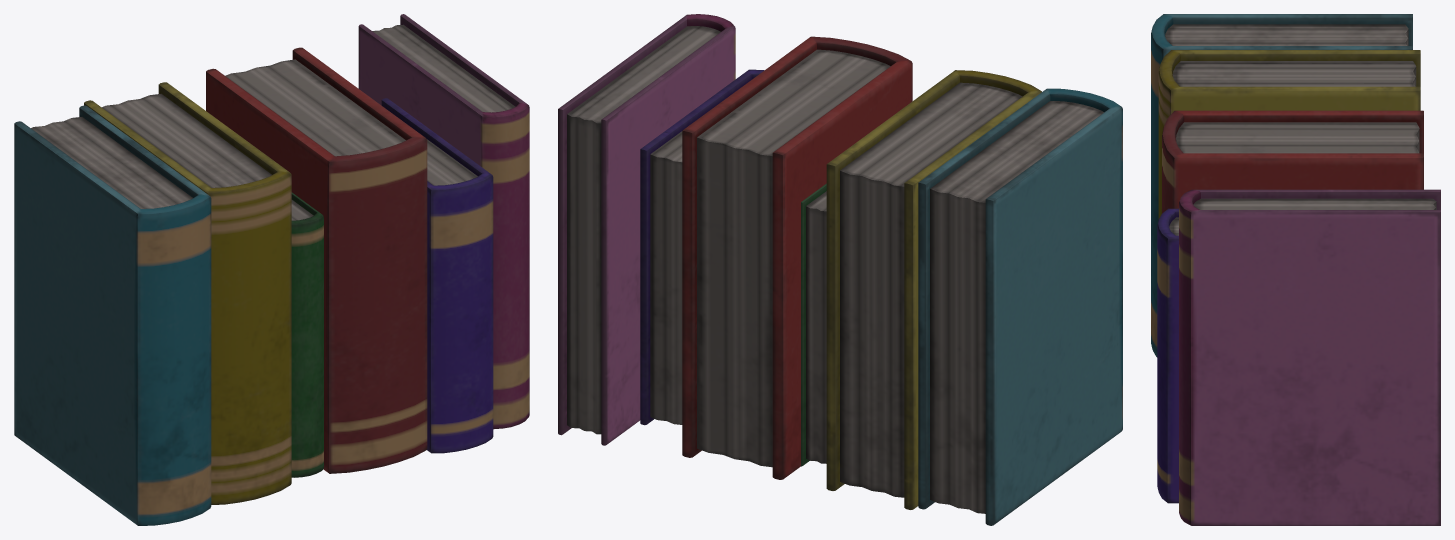
Rendered from Books_V1.fbx.
The picture shows the model from 3 angles, left to right: view 1: azimuth 30°, elevation 25°; view 2: azimuth 150°, elevation 25°; view 3: azimuth 270°, elevation 25°; orthographic projection. The views are drawn at different scales.
Parts seen in each view (by area): view 1: Books_v1; view 2: Books_v1; view 3: Books_v1.
Boxes of the visible parts, box(x1,y1,x2,y2) form: Books_v1: box(14, 14, 529, 525); Books_v1: box(558, 14, 1122, 525); Books_v1: box(1151, 14, 1440, 525).
Bounding box in the file's own units: 96.22 × 71.21 × 59.26.
1 material, 1 textured.
